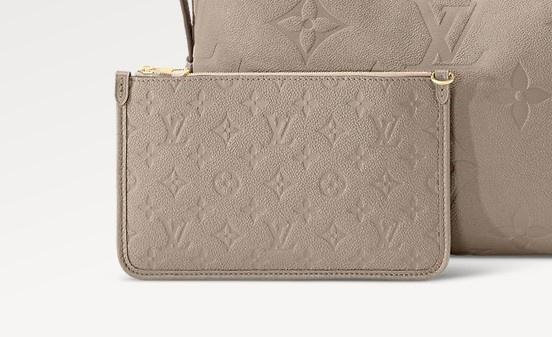LOUIS-VUITTON: (121, 74, 443, 276)
